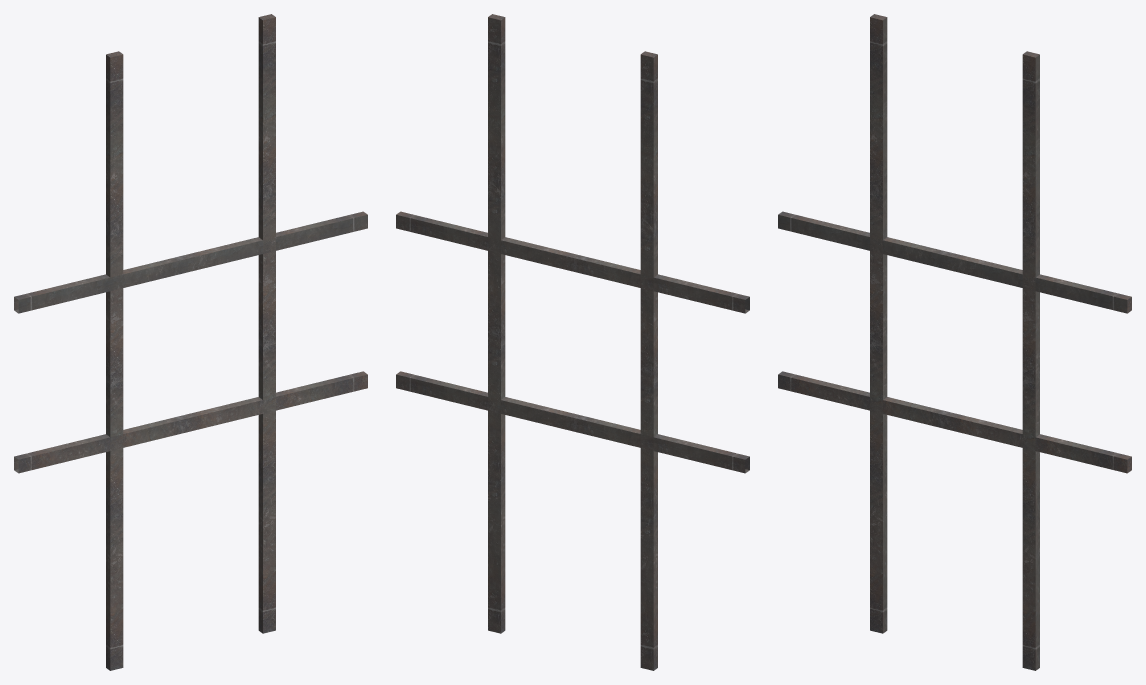
Rendered from WindowGrilles.fbx.
3 renders of one model, left to right at view 1: azimuth 30°, elevation 25°; view 2: azimuth 150°, elevation 25°; view 3: azimuth 330°, elevation 25°, orthographic.
Visible parts, largest first — view 1: WindowGrilles; view 2: WindowGrilles; view 3: WindowGrilles.
Boxes of the visible parts, x1=… form: WindowGrilles: x1=14, y1=14, x2=367, y2=670; WindowGrilles: x1=396, y1=14, x2=749, y2=670; WindowGrilles: x1=778, y1=14, x2=1131, y2=670.
Bounding box in the file's own units: 83.46 × 140 × 1.82.
Materials: 1 (1 with a texture image).
